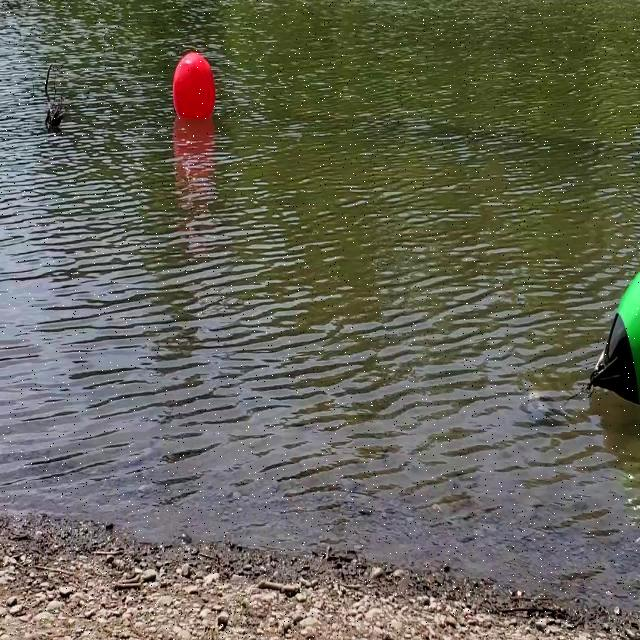buoy: (589, 266, 640, 406), (172, 52, 215, 119)
